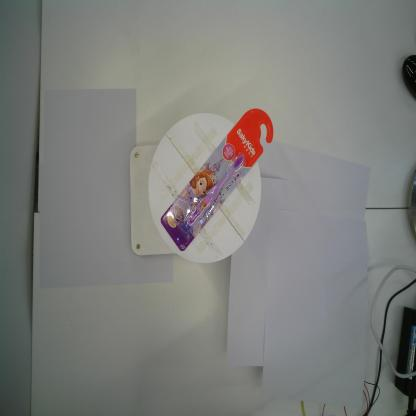Personal Hygiene: (160, 108, 274, 252)
